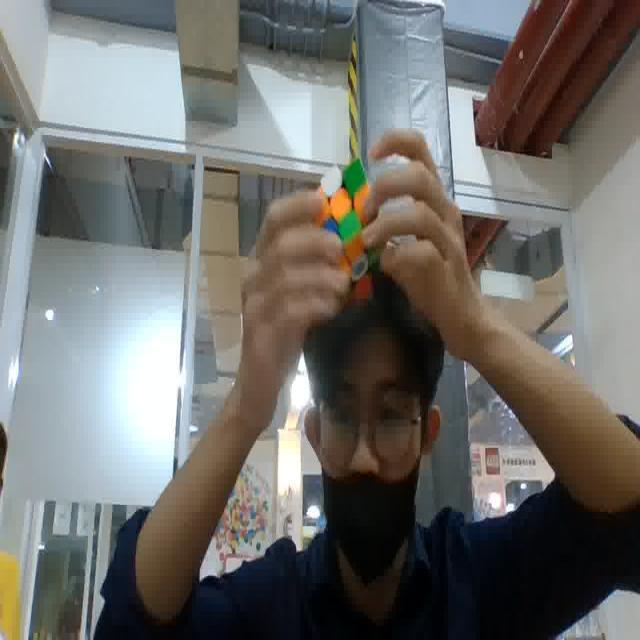Rub: (306, 156, 392, 285)
